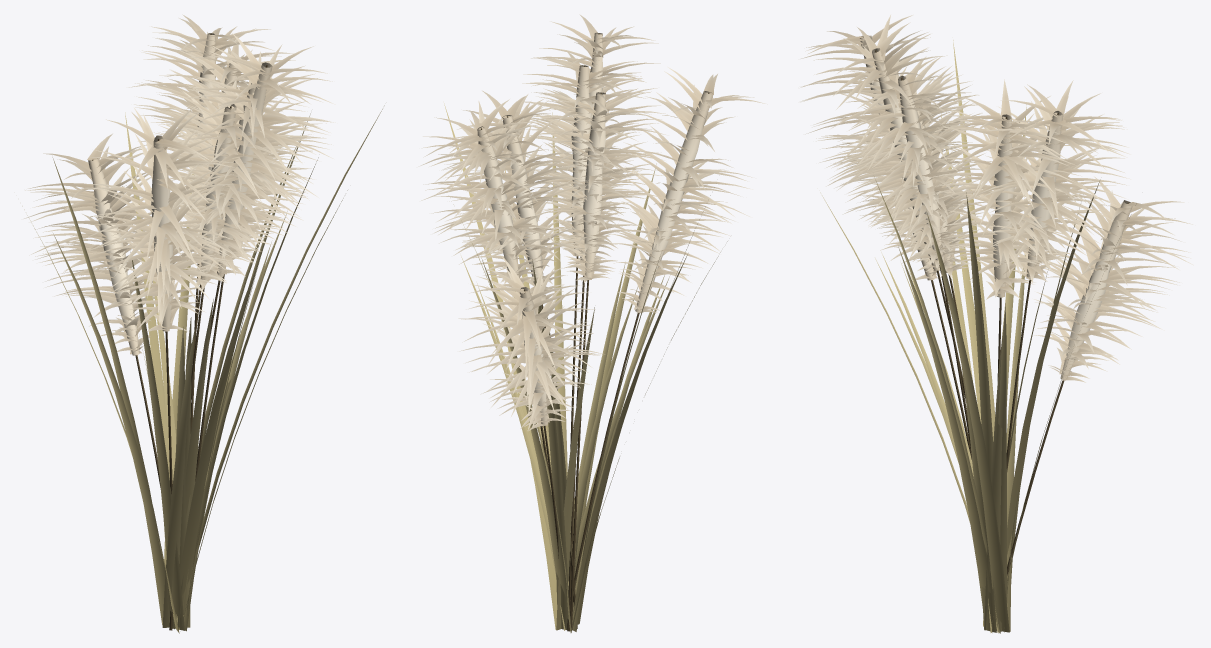
Rendered from pampas.glb.
3 renders of one model, left to right at view 1: azimuth 30°, elevation 25°; view 2: azimuth 150°, elevation 25°; view 3: azimuth 270°, elevation 25°, orthographic. The views are drawn at different scales.
Size of the model in its own units: 0.5032 by 0.9017 by 0.5381.
Materials: 1 (1 with a texture image).
